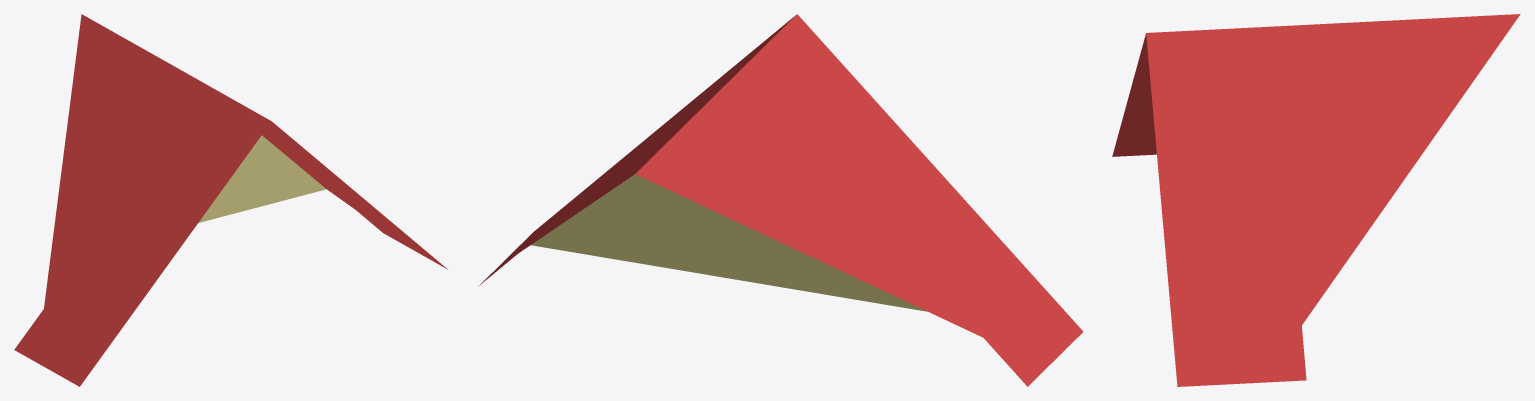
3 views of the same model, side by side, from view 1: azimuth 30°, elevation 25°; view 2: azimuth 150°, elevation 25°; view 3: azimuth 270°, elevation 25° (orthographic). The views are drawn at different scales.
Bounding box in the file's own units: 6.19 × 4.51 × 2.97.
